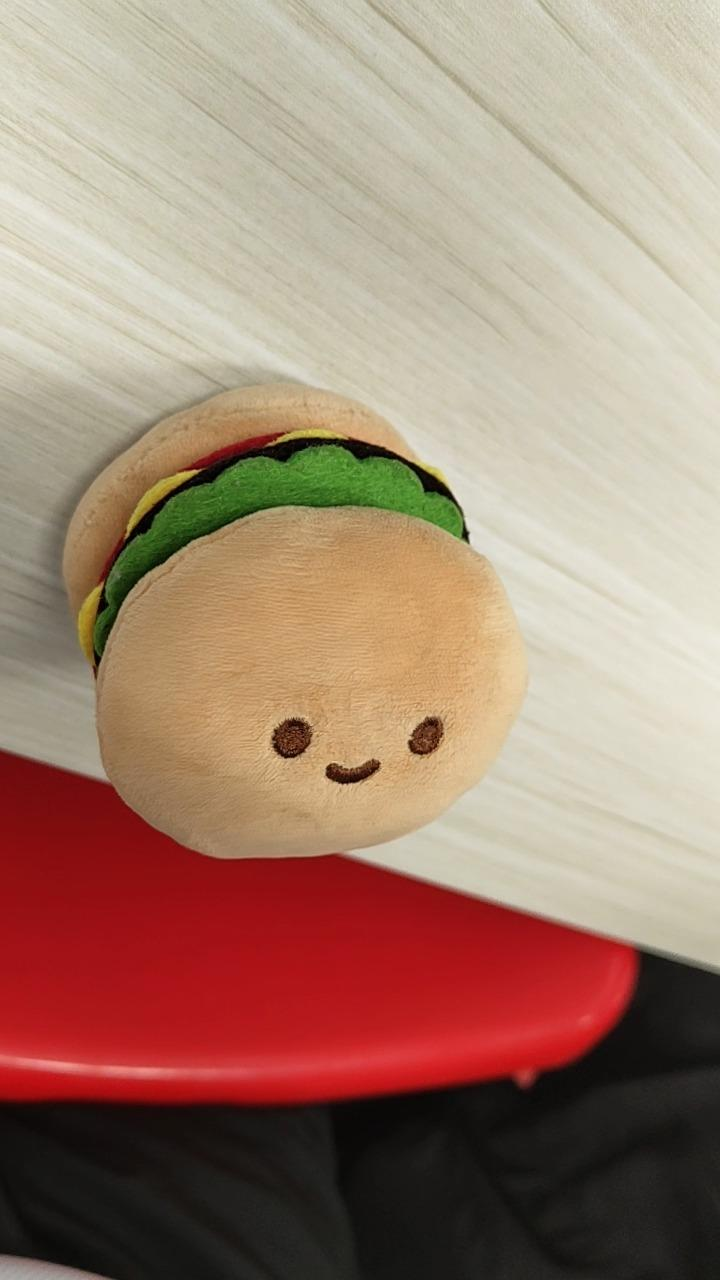hamburger: (60, 379, 529, 861)
